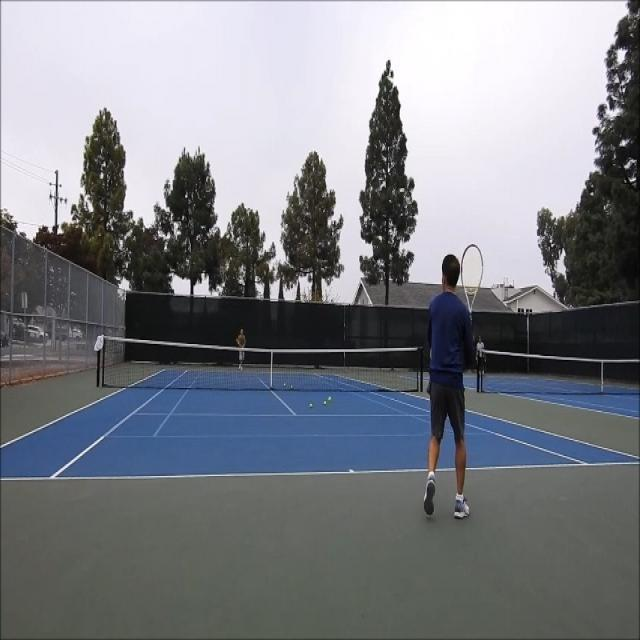court: (0, 370, 640, 480)
net: (94, 336, 423, 392)
player: (423, 243, 484, 518)
